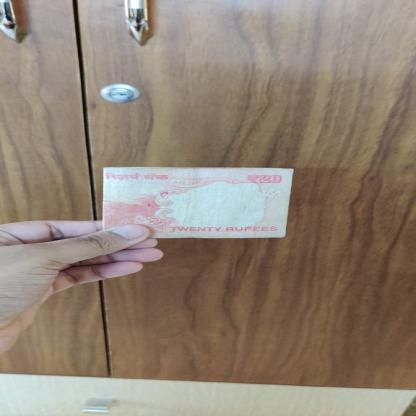Old20Back: (101, 169, 287, 236)
